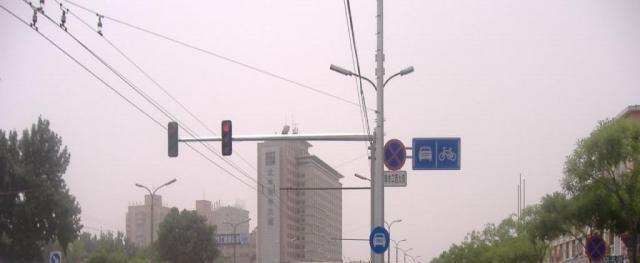red_light: (221, 120, 232, 156)
